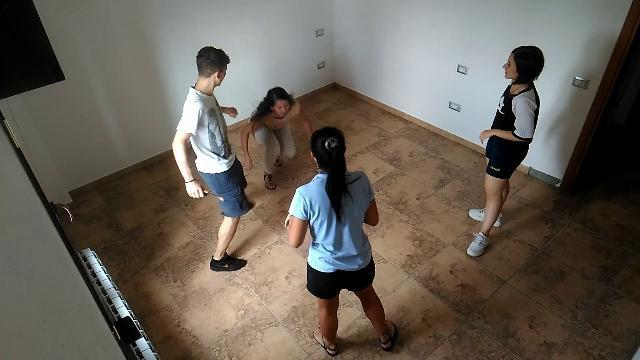knife: (200, 188, 222, 203)
non-violence: (282, 126, 400, 358), (463, 44, 547, 260), (238, 86, 314, 192)
violence: (168, 45, 255, 275)
